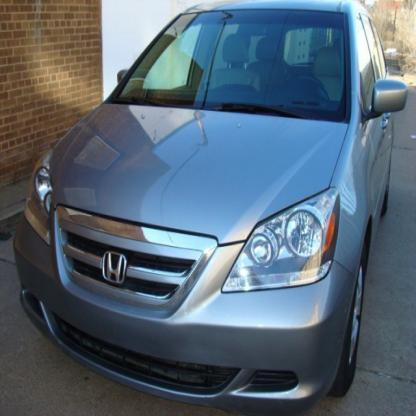Vehicle: (8, 1, 410, 415)
